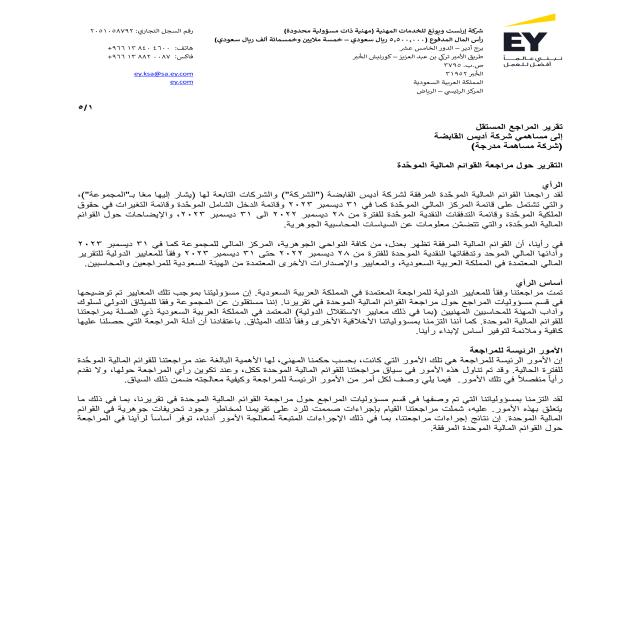auditor_report: (465, 120, 568, 132)
